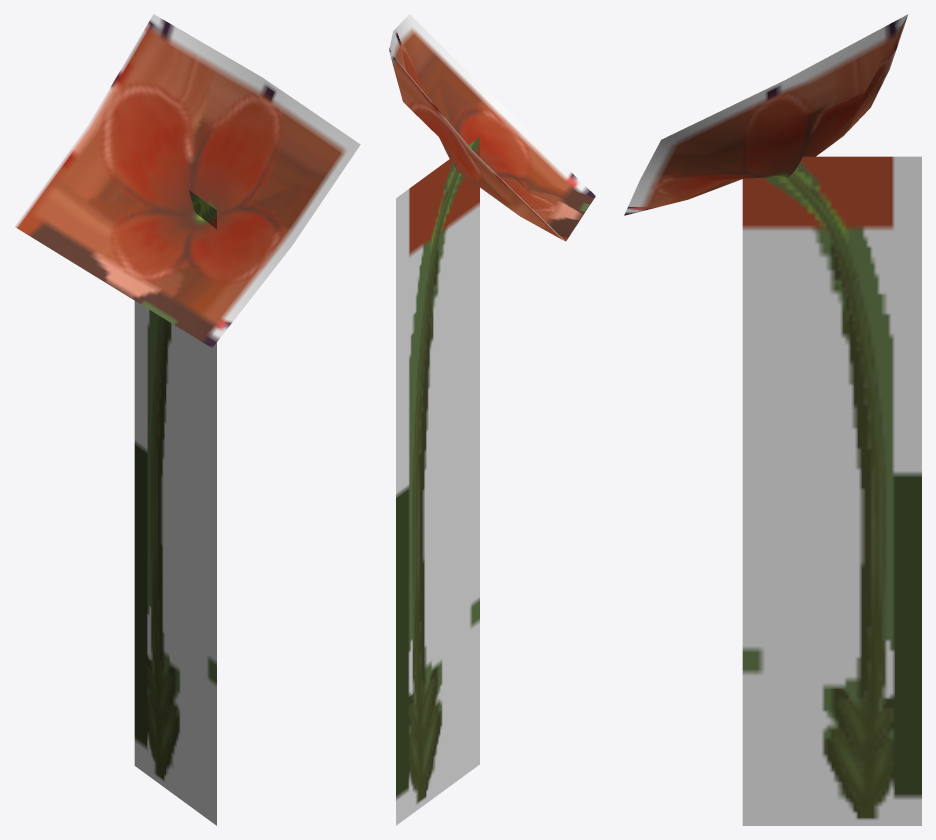
Rendered from Flower6.fbx.
3 views of the same model, side by side, from view 1: azimuth 30°, elevation 25°; view 2: azimuth 150°, elevation 25°; view 3: azimuth 270°, elevation 25° (orthographic). The views are drawn at different scales.
Parts seen in each view (by area): view 1: Flower6; view 2: Flower6; view 3: Flower6.
Part boxes in pixels (left/top/right/bottom): Flower6: left=14, top=14, right=360, bottom=825; Flower6: left=389, top=14, right=595, bottom=825; Flower6: left=624, top=14, right=921, bottom=825.
Size of the model in its own units: 1.13 by 3.25 by 1.07.
Materials: 1 (1 with a texture image).
